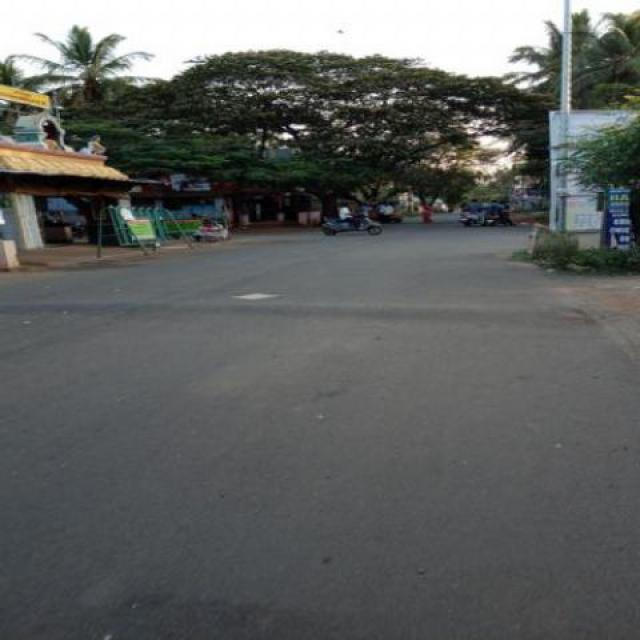Pothole: (309, 385, 347, 400)
Unmarked Bump: (1, 301, 584, 328)
